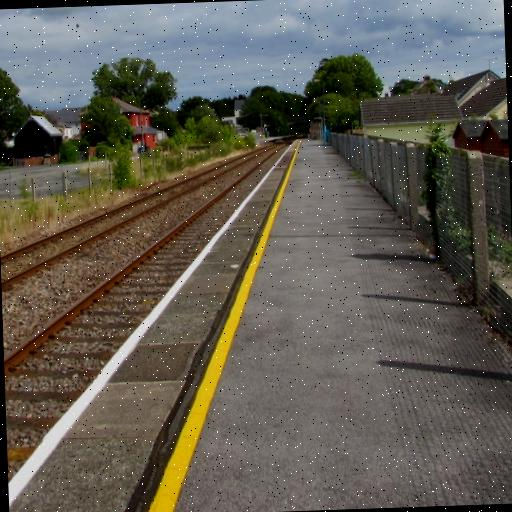platform_edge: (75, 157, 318, 512)
